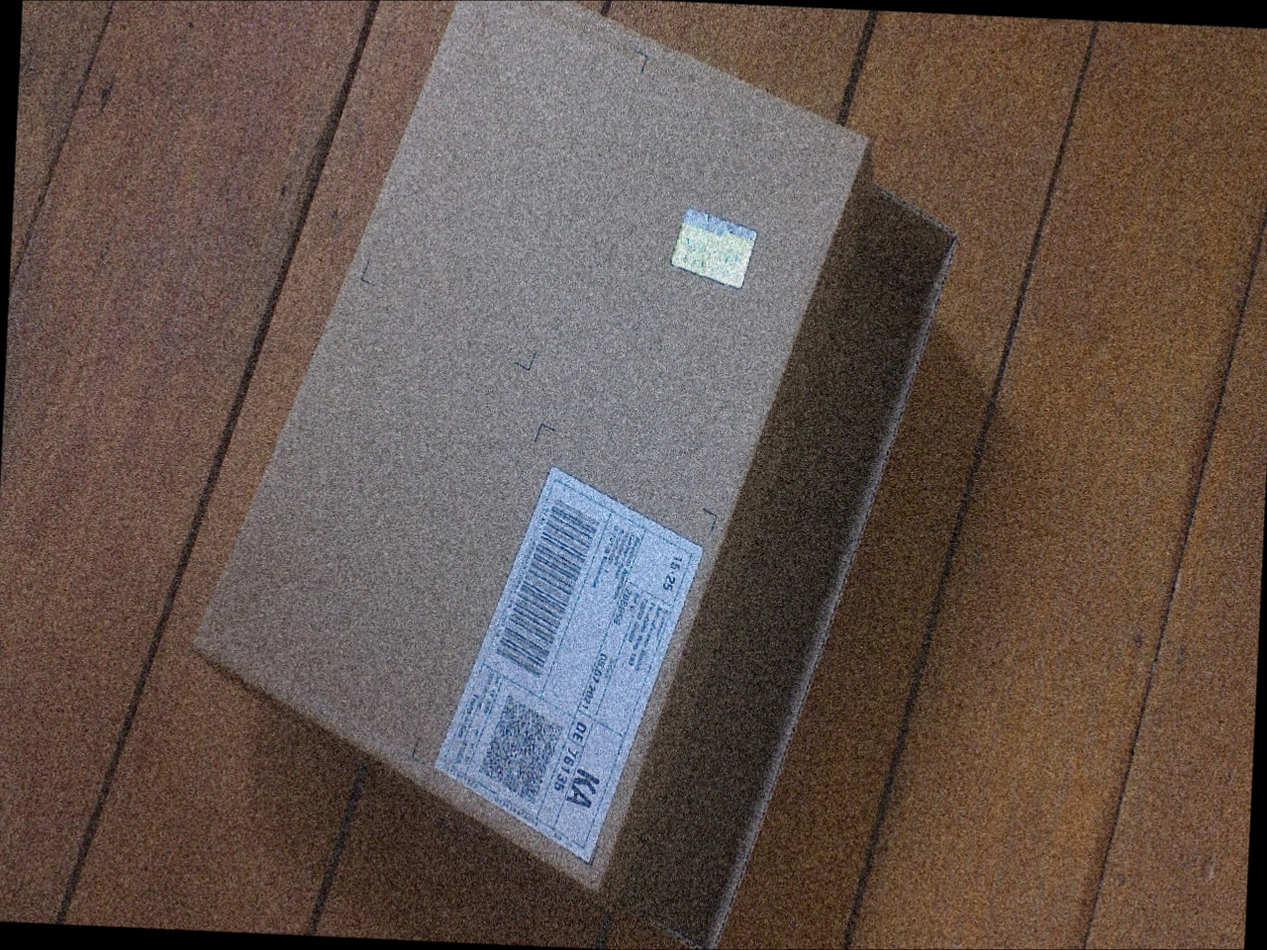good-parcel: (183, 0, 964, 950)
